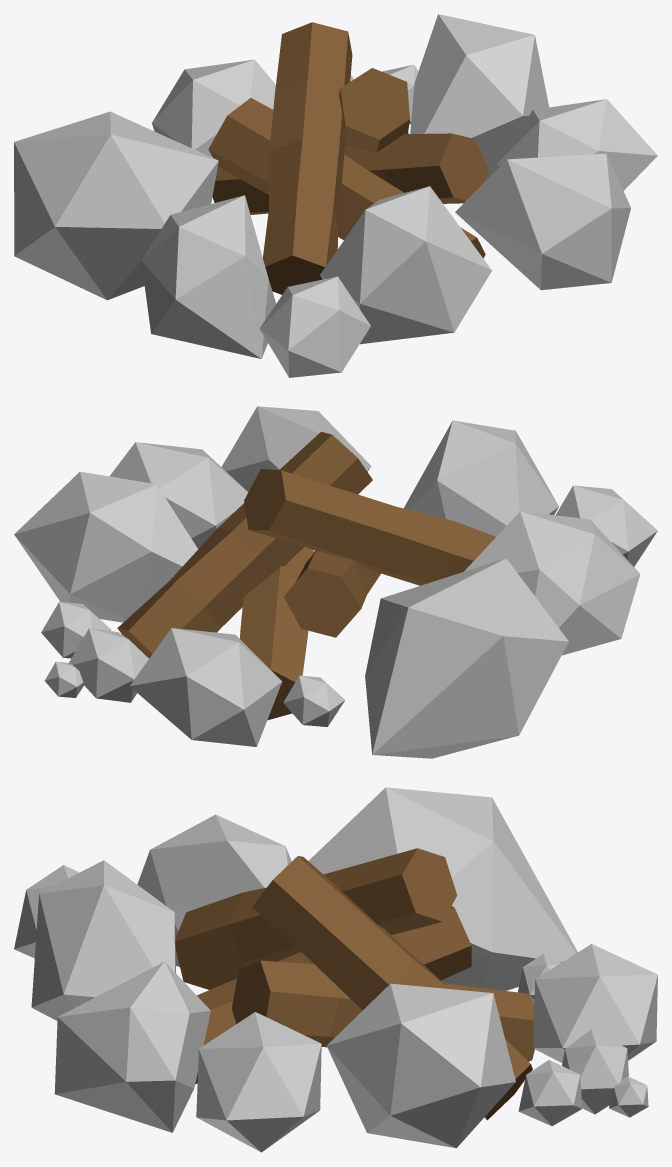
The model's file is fire.fbx.
3 renders of one model, top to bottom at view 1: azimuth 30°, elevation 25°; view 2: azimuth 150°, elevation 25°; view 3: azimuth 270°, elevation 25°, orthographic. The views are drawn at different scales.
Parts seen in each view (by area): view 1: rock, wood; view 2: rock, wood; view 3: rock, wood.
Part boxes in pixels (box(x1,y1,x2,y2)): rock: box(14, 14, 657, 377); wood: box(208, 22, 489, 294); rock: box(14, 406, 657, 758); wood: box(117, 431, 495, 720); rock: box(14, 787, 657, 1152); wood: box(175, 848, 534, 1120).
Size of the model in its own units: 324 by 135 by 318.
